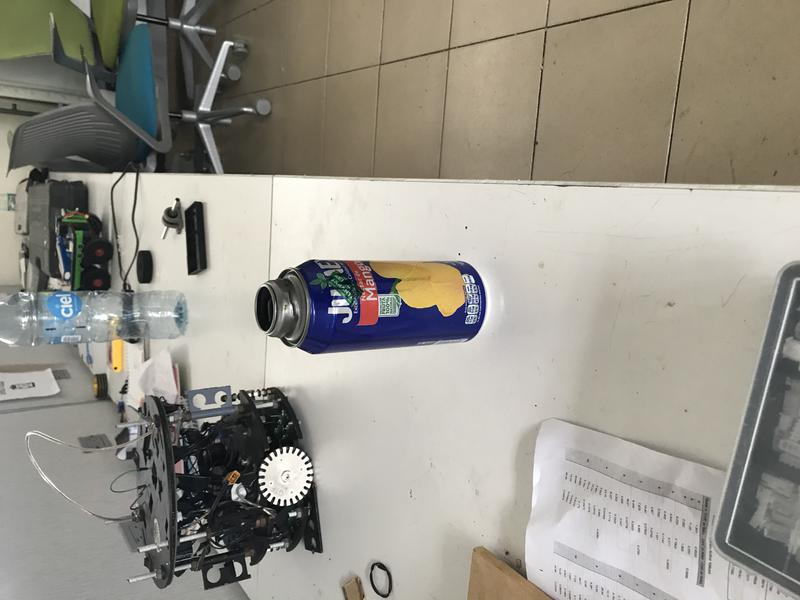jumex_botella: (255, 259, 491, 355)
